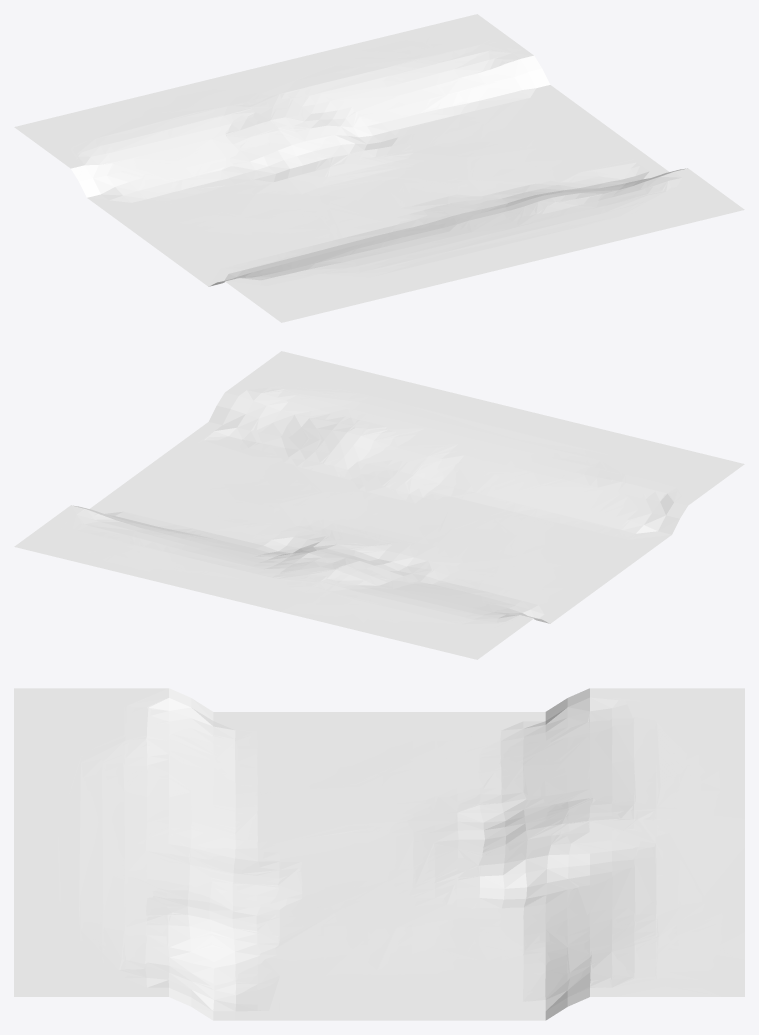
The model's file is Road_1_Snowy.fbx.
The picture shows the model from 3 angles, top to bottom: view 1: azimuth 30°, elevation 25°; view 2: azimuth 150°, elevation 25°; view 3: azimuth 270°, elevation 25°; orthographic projection. The views are drawn at different scales.
Visible parts, largest first — view 1: Road 1_LOD3_Snowy, Road 1_LOD0_Snowy, Road 1_LOD2_Snowy, Road 1_LOD1_Snowy; view 2: Road 1_LOD3_Snowy, Road 1_LOD0_Snowy, Road 1_LOD2_Snowy, Road 1_LOD1_Snowy; view 3: Road 1_LOD3_Snowy, Road 1_LOD0_Snowy, Road 1_LOD2_Snowy, Road 1_LOD1_Snowy.
Boxes of the visible parts, bbox=[...] form: Road 1_LOD3_Snowy: bbox=[15, 17, 674, 286]; Road 1_LOD0_Snowy: bbox=[31, 14, 732, 322]; Road 1_LOD2_Snowy: bbox=[14, 20, 744, 284]; Road 1_LOD1_Snowy: bbox=[16, 17, 711, 319]; Road 1_LOD3_Snowy: bbox=[29, 387, 676, 659]; Road 1_LOD0_Snowy: bbox=[14, 351, 744, 658]; Road 1_LOD2_Snowy: bbox=[22, 351, 680, 659]; Road 1_LOD1_Snowy: bbox=[22, 351, 735, 659]; Road 1_LOD3_Snowy: bbox=[58, 688, 744, 1020]; Road 1_LOD0_Snowy: bbox=[14, 688, 744, 1020]; Road 1_LOD2_Snowy: bbox=[14, 688, 744, 1010]; Road 1_LOD1_Snowy: bbox=[14, 688, 744, 1010].
Size of the model in its own units: 1000 by 40.43 by 1000.
